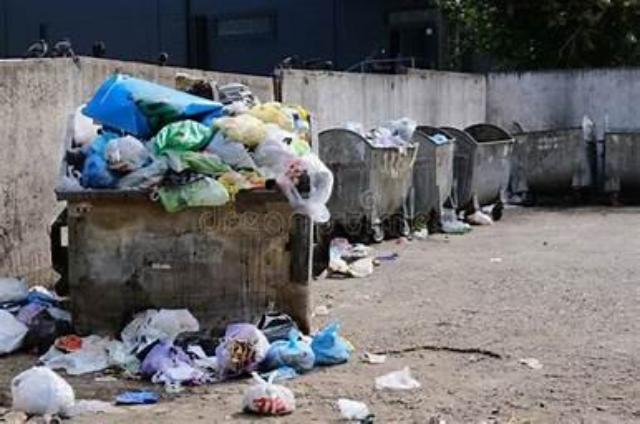Garbage: (80, 75, 334, 222)
Plastic_Bag: (83, 75, 222, 138), (254, 123, 334, 222), (159, 178, 230, 212), (206, 131, 256, 170), (153, 120, 212, 152), (212, 114, 265, 149), (106, 135, 151, 175), (165, 150, 231, 176), (181, 178, 230, 207), (81, 153, 117, 189), (250, 102, 294, 131)
